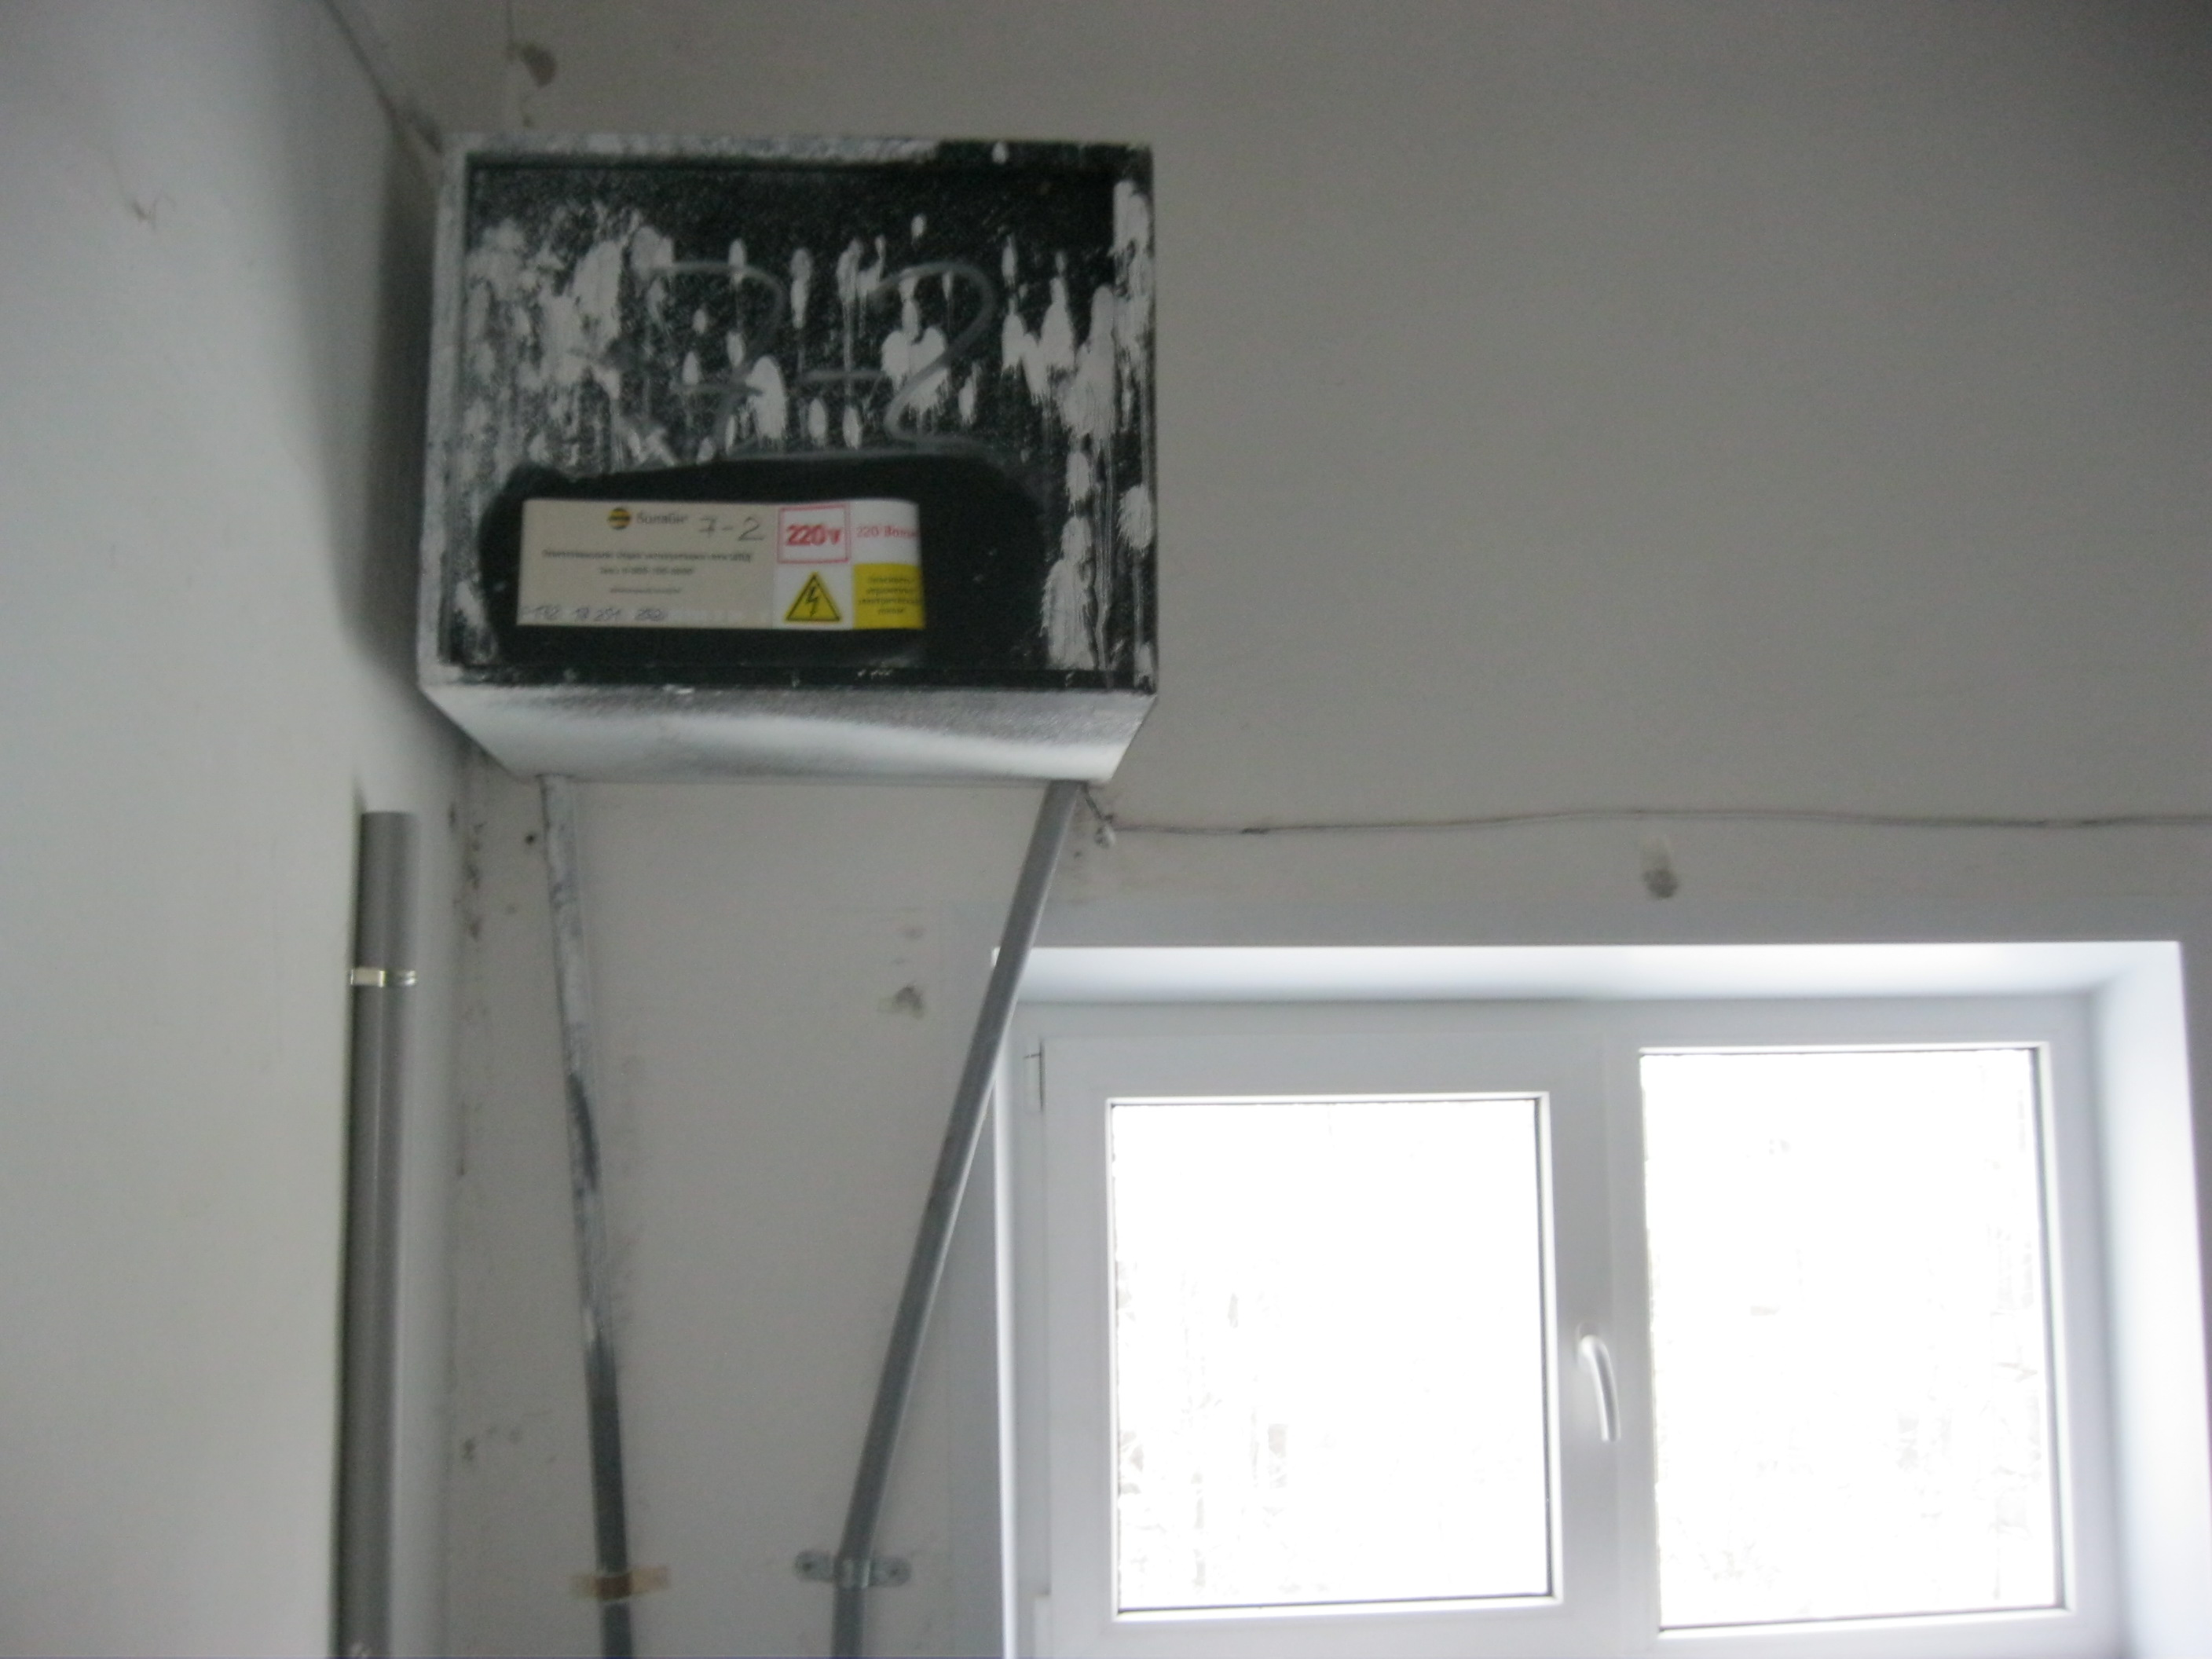shta-9m: (408, 120, 1170, 789)
